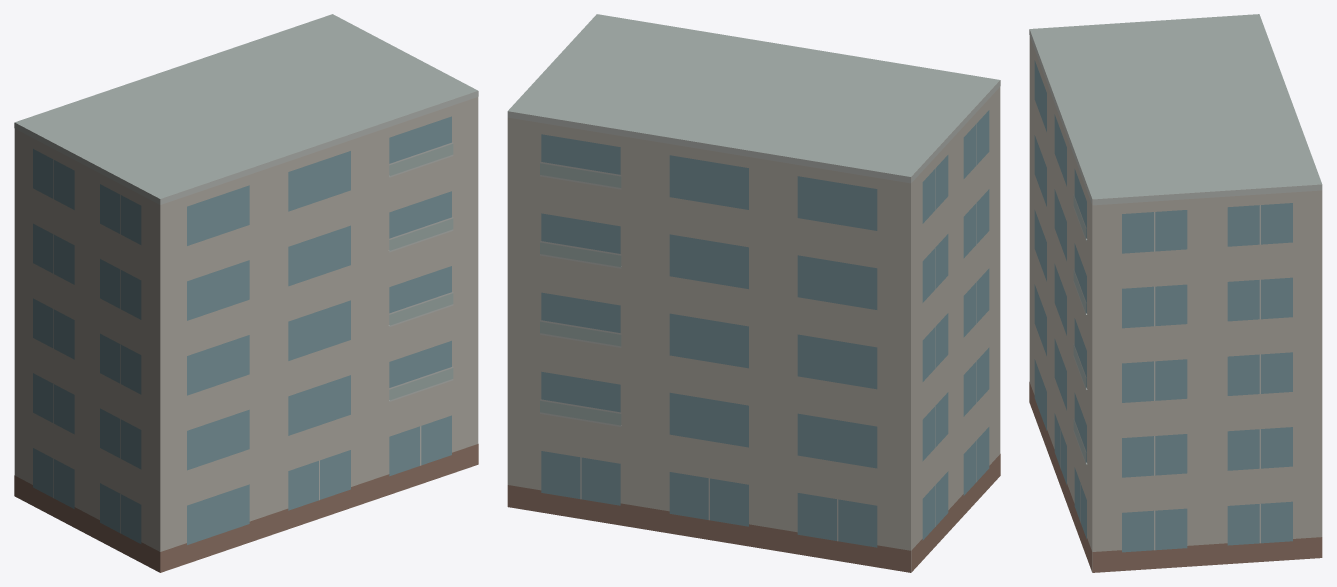
File: survey-upis-32750976.glb
3 views of the same model, side by side, from view 1: azimuth 30°, elevation 25°; view 2: azimuth 150°, elevation 25°; view 3: azimuth 270°, elevation 25° (orthographic). The views are drawn at different scales.
Visible parts, largest first — view 1: survey-upis-32750976.tmp; view 2: survey-upis-32750976.tmp; view 3: survey-upis-32750976.tmp.
Boxes of the visible parts, x1=… form: survey-upis-32750976.tmp: x1=14, y1=14, x2=478, y2=572; survey-upis-32750976.tmp: x1=507, y1=14, x2=1000, y2=572; survey-upis-32750976.tmp: x1=1029, y1=14, x2=1322, y2=572.
Bounding box in the file's own units: 16.2 × 15.2 × 10.81.
